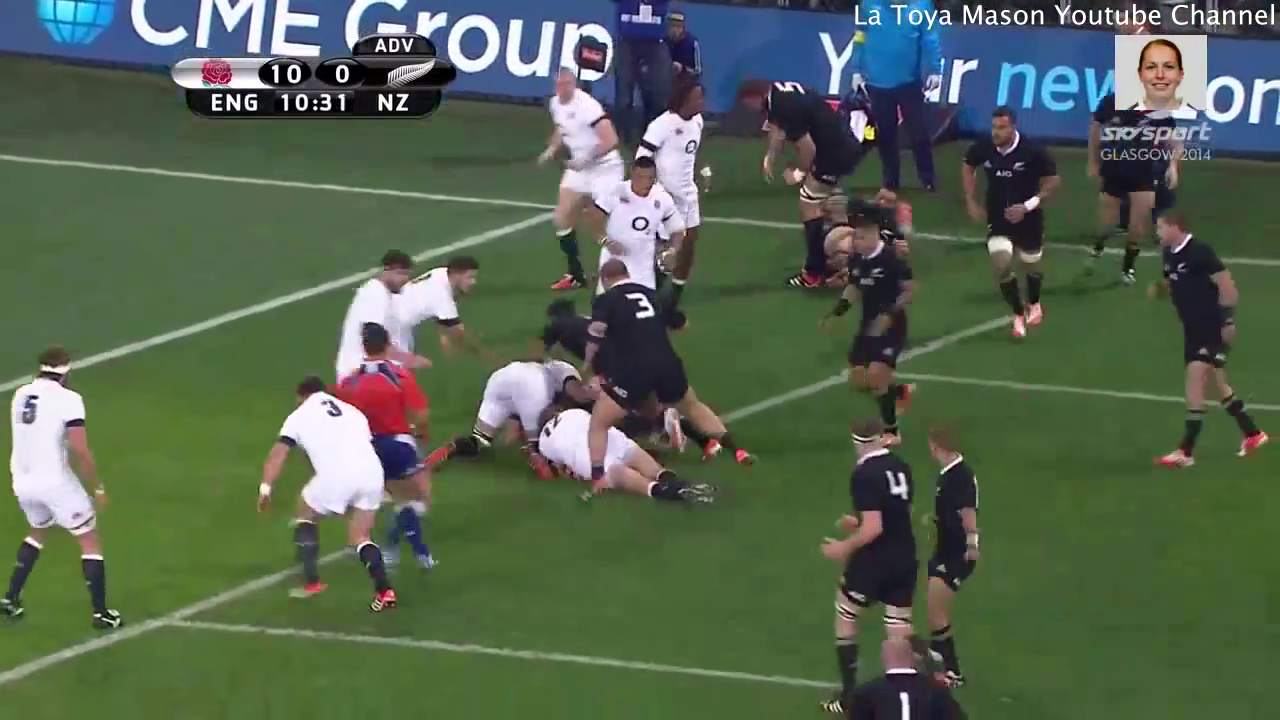player: (1, 337, 131, 632), (1139, 205, 1274, 482), (253, 376, 408, 616), (582, 265, 721, 512), (735, 73, 846, 296), (816, 215, 923, 443), (960, 100, 1058, 342), (825, 415, 919, 632), (535, 401, 718, 512), (918, 420, 989, 695), (533, 75, 614, 300), (812, 637, 993, 720), (1082, 151, 1175, 287), (432, 360, 545, 470), (337, 327, 425, 466), (336, 248, 421, 373), (598, 162, 677, 281), (637, 77, 713, 184), (406, 260, 481, 350)
